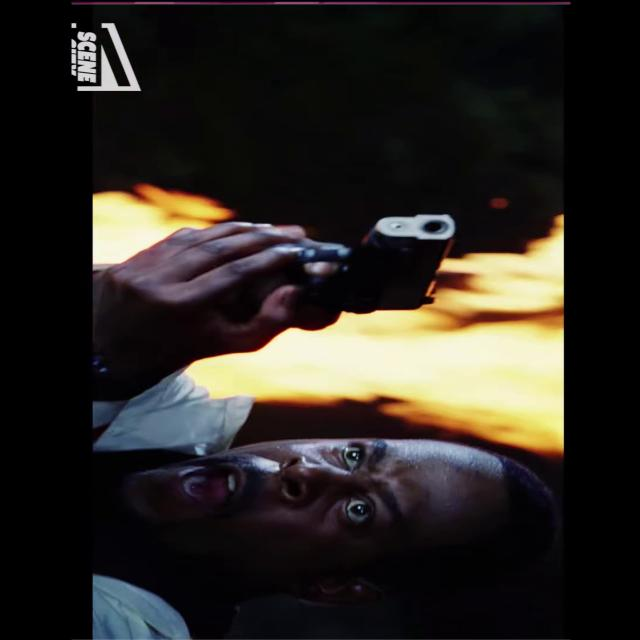weapons: (174, 196, 486, 334)
